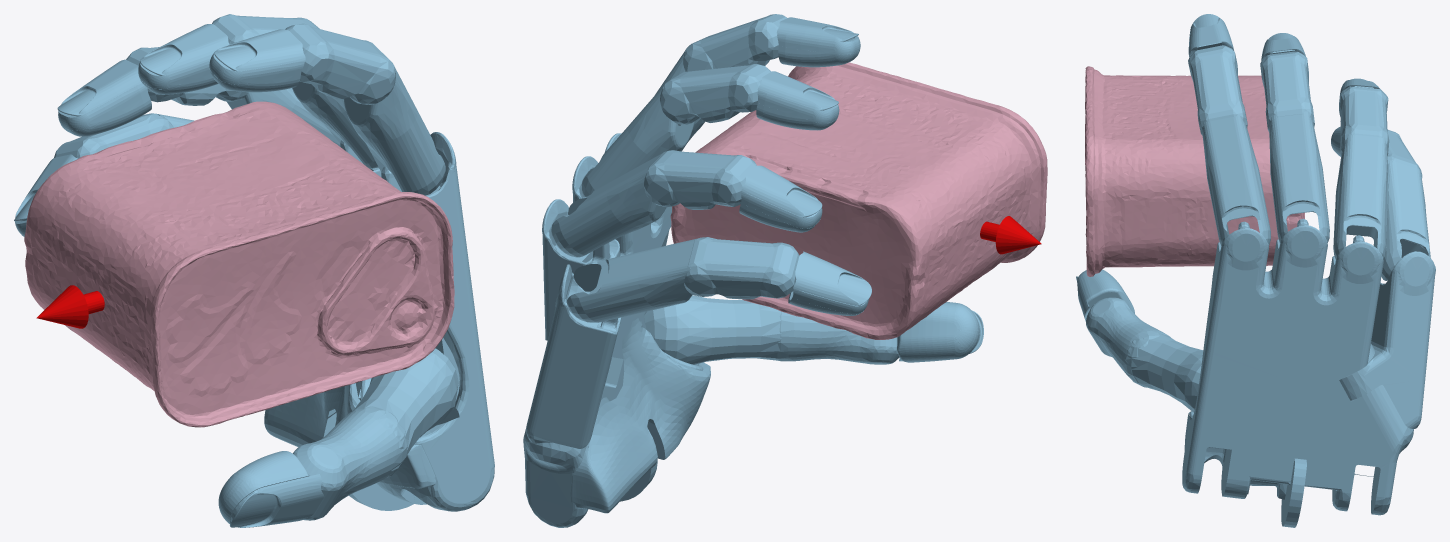
The picture shows the model from 3 angles, left to right: view 1: azimuth 30°, elevation 25°; view 2: azimuth 150°, elevation 25°; view 3: azimuth 270°, elevation 25°; orthographic projection. The views are drawn at different scales.
Visible parts, largest first — view 1: potted_meat_can.stl, world; view 2: world, potted_meat_can.stl; view 3: world, potted_meat_can.stl.
Boxes of the visible parts, x1,y1,x2,y2 form: potted_meat_can.stl: [24, 101, 454, 427]; world: [14, 14, 494, 527]; world: [523, 14, 1041, 527]; potted_meat_can.stl: [670, 62, 1047, 339]; world: [1076, 14, 1435, 527]; potted_meat_can.stl: [1085, 66, 1304, 276].
Bounding box in the file's own units: 0.1644 × 0.1775 × 0.1365.
